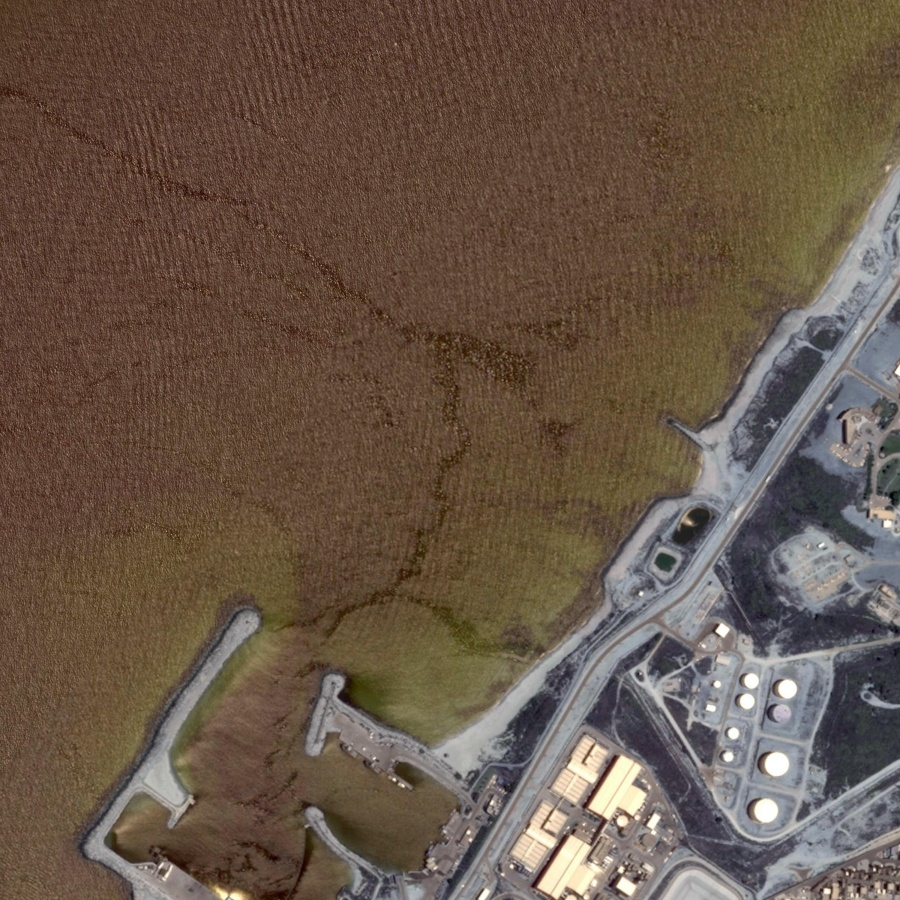PowerPlant: (638, 622, 870, 836)
